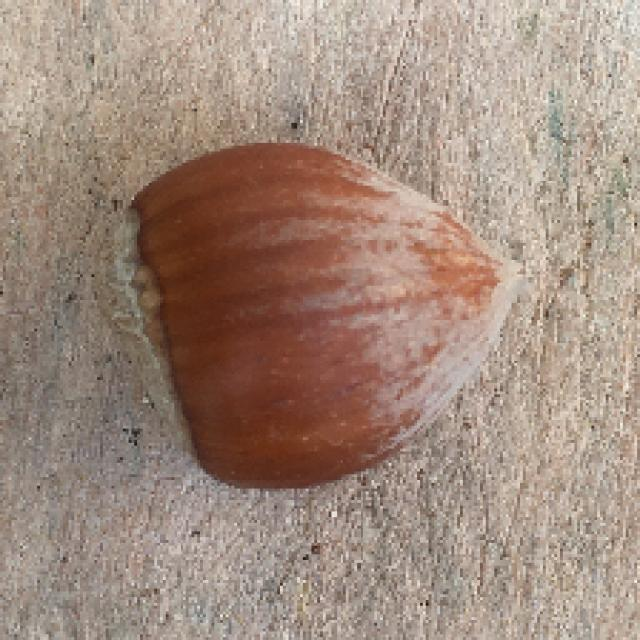qualityHazelnut: (108, 135, 530, 498)
